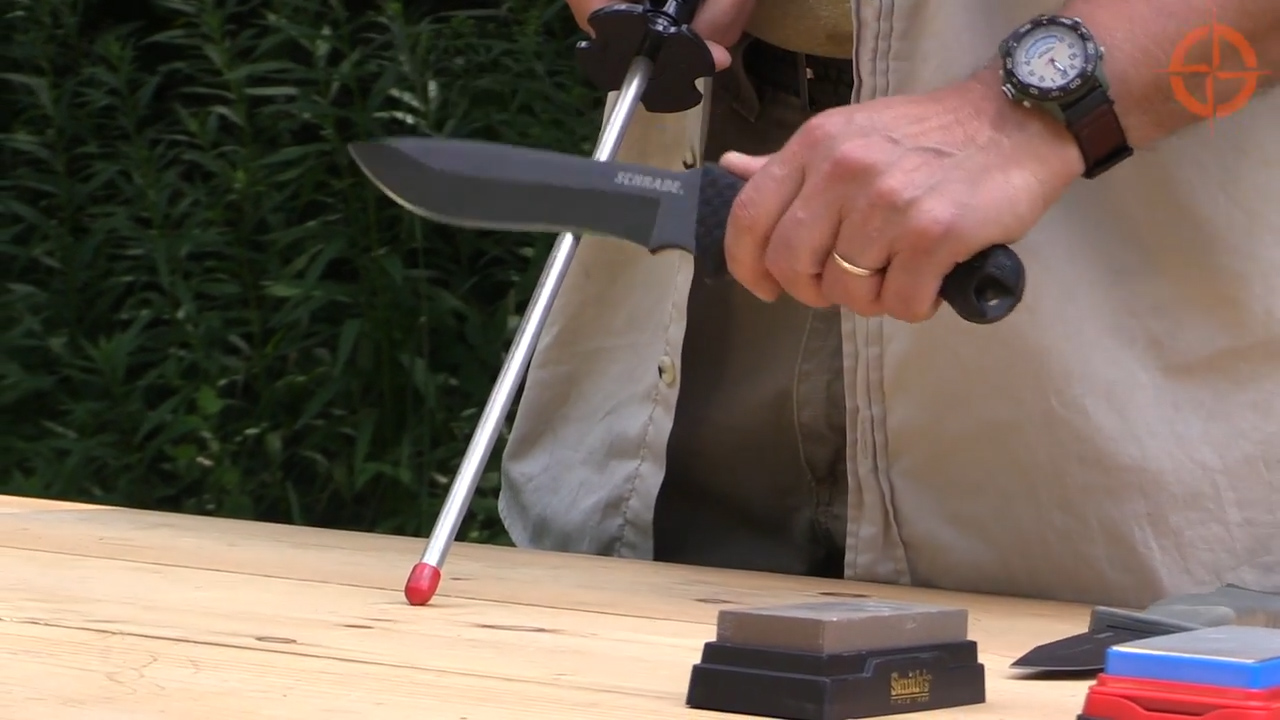knife: (327, 121, 1042, 333)
